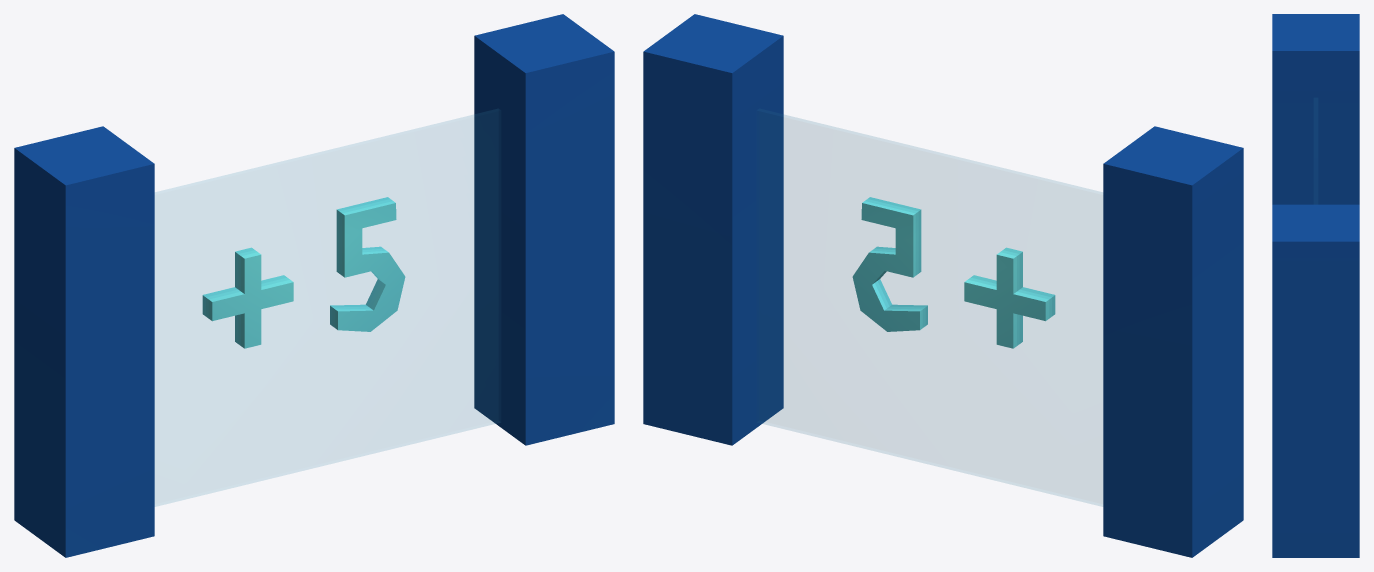
File: plus_5_block_.fbx
The picture shows the model from 3 angles, left to right: view 1: azimuth 30°, elevation 25°; view 2: azimuth 150°, elevation 25°; view 3: azimuth 270°, elevation 25°; orthographic projection. The views are drawn at different scales.
Parts seen in each view (by area): view 1: plus_block; view 2: plus_block; view 3: plus_block.
Boxes of the visible parts, left/top/right/bottom form: plus_block: left=14, top=14, right=614, bottom=557; plus_block: left=643, top=14, right=1243, bottom=557; plus_block: left=1272, top=14, right=1359, bottom=557.
Size of the model in its own units: 3.09 by 2 by 0.4997.
